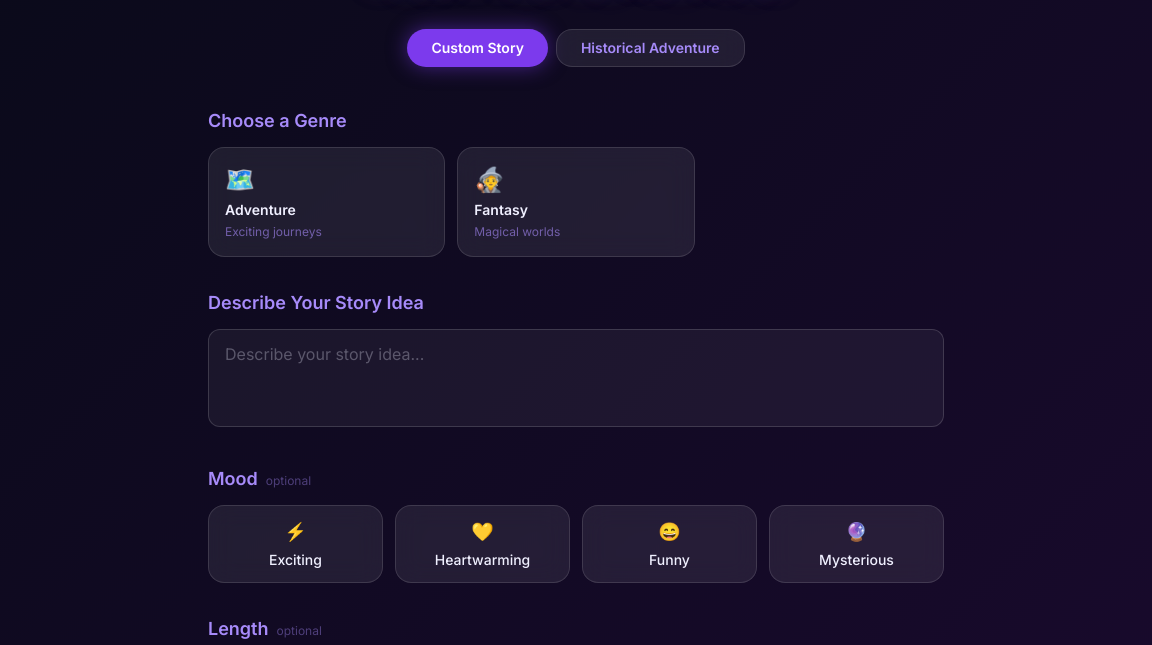
CraftScreen › enables Create Story after selecting genre and entering description
Click the text "Adventure" at (260, 210), box 225,201 -> 296,218
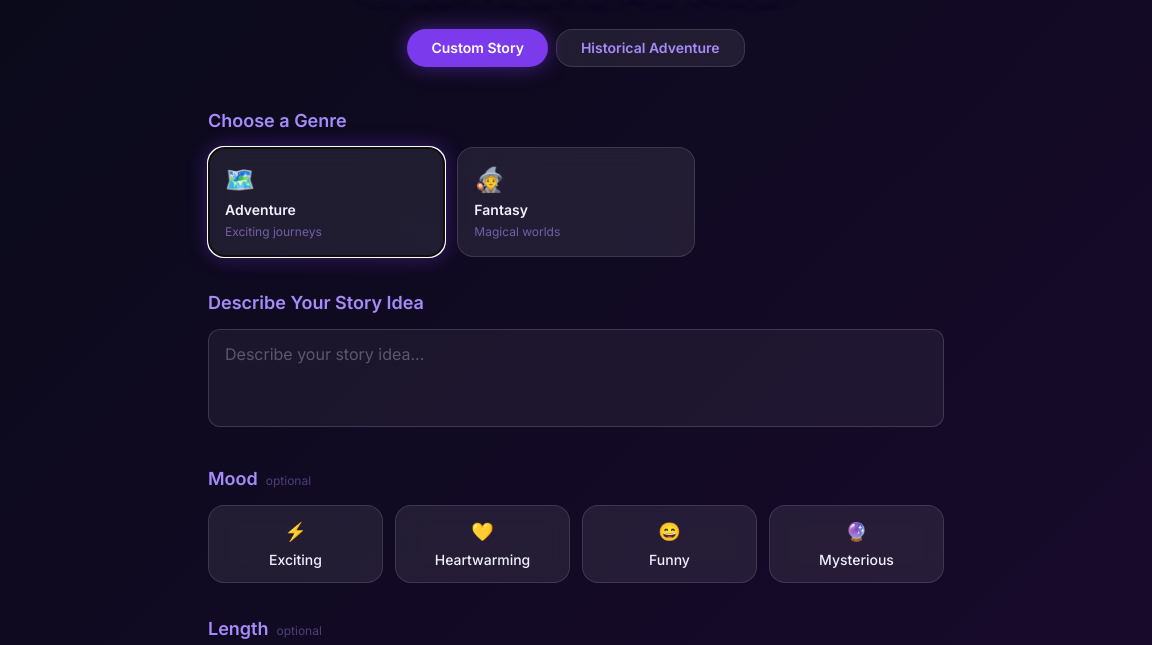
Type "A quest" into the text box with placeholder "Describe your story idea..." at (576, 378), box 208,329 -> 944,427
(page scrolled)
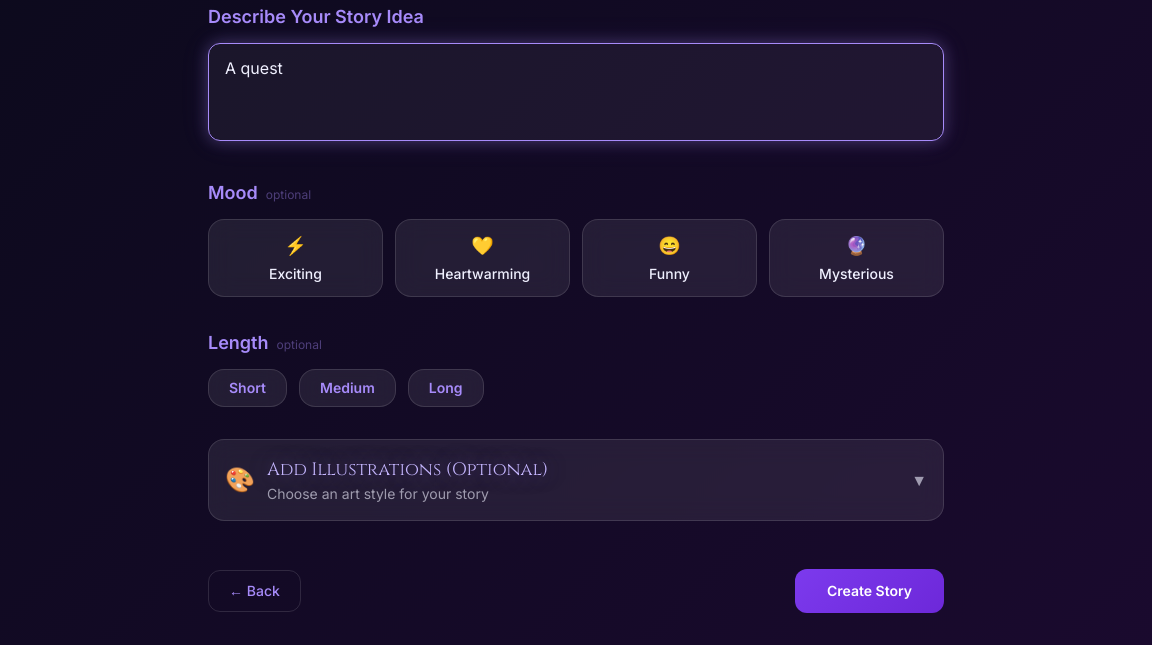
Expected: the button "Create Story" is enabled, 795,569 -> 944,613
